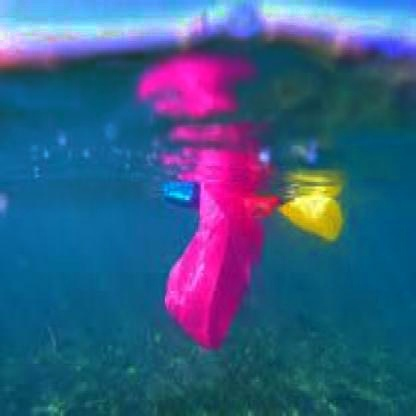pbag: (157, 175, 268, 355), (275, 182, 351, 245)
